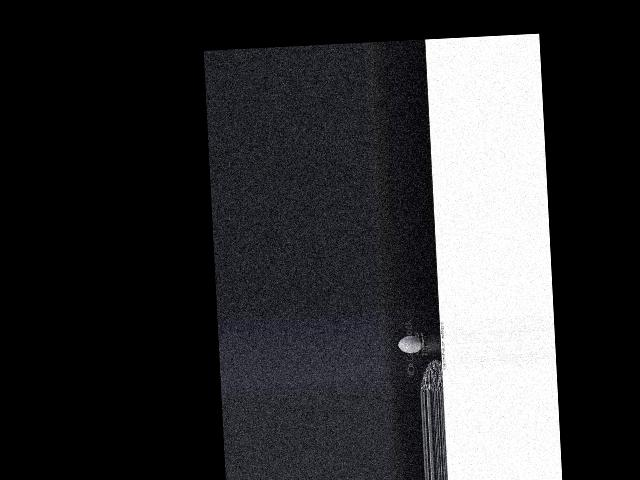egg: (398, 335, 422, 353)
